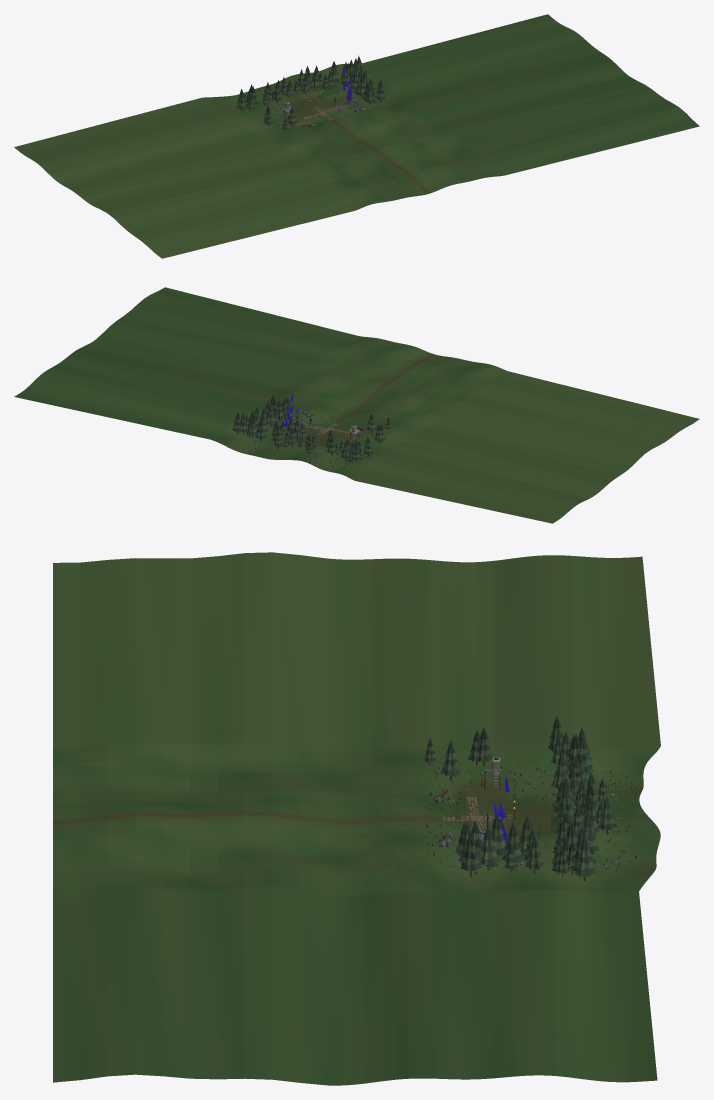
File: environmentv2.glb
3 views of the same model, one above another, from view 1: azimuth 30°, elevation 25°; view 2: azimuth 150°, elevation 25°; view 3: azimuth 270°, elevation 25° (orthographic). The views are drawn at different scales.
Parts seen in each view (by area): view 1: Family_environment; view 2: Family_environment; view 3: Family_environment.
Part boxes in pixels (box(x1,y1,x2,y2)): Family_environment: box(14, 14, 699, 258); Family_environment: box(14, 287, 699, 523); Family_environment: box(53, 552, 660, 1085).
Bounding box in the file's own units: 180 × 12.79 × 88.6.
Materials: 3 (3 with a texture image).
